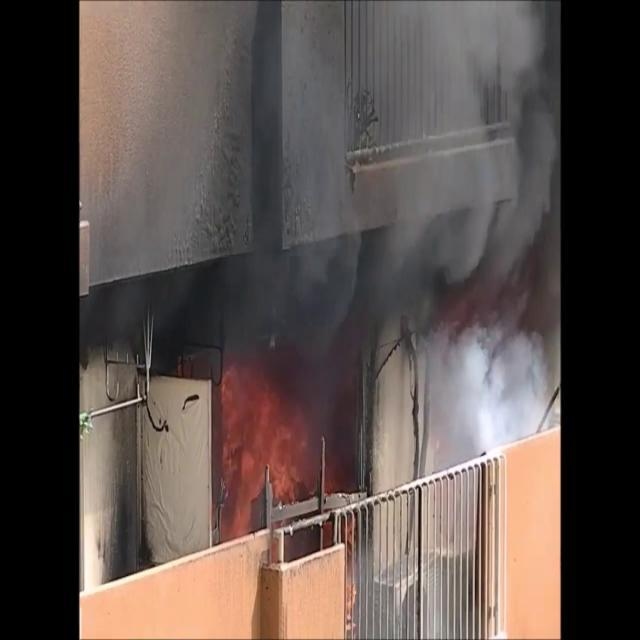Smoke: (87, 1, 558, 448)
